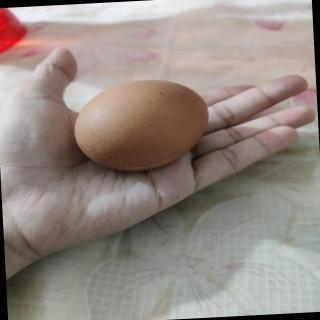Telur: (71, 76, 218, 177)
